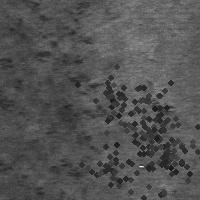rolled-in_scale: (86, 64, 200, 184), (72, 53, 166, 147), (10, 1, 99, 88), (117, 107, 200, 200), (18, 103, 105, 187), (72, 129, 144, 200)
